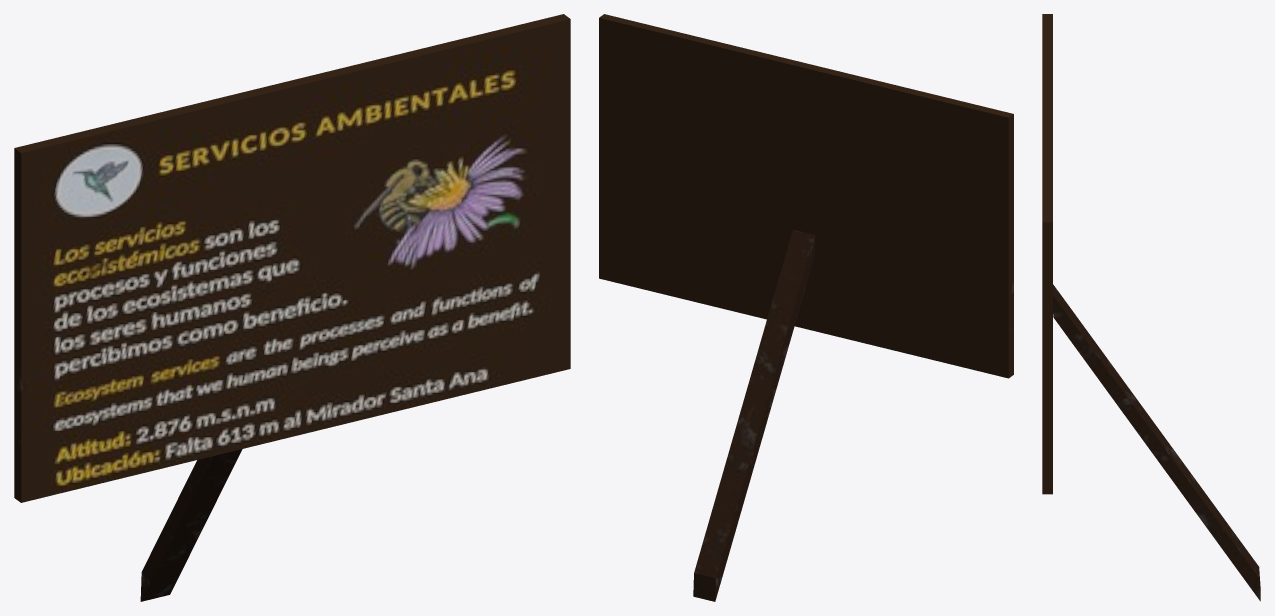
File: letrero-servicios-ambientales.glb
3 views of the same model, side by side, from view 1: azimuth 30°, elevation 25°; view 2: azimuth 150°, elevation 25°; view 3: azimuth 270°, elevation 25° (orthographic). The views are drawn at different scales.
Bounding box in the file's own units: 8.9 × 9.51 × 3.94.
Materials: 2 (2 with a texture image).
